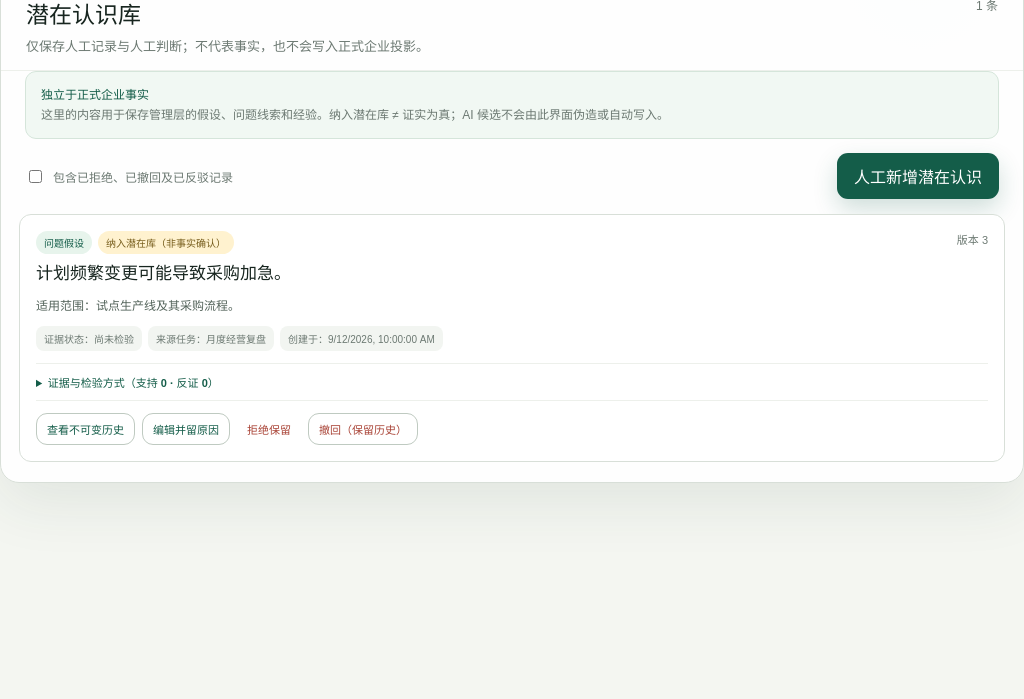
edits with a reason and expected version, then displays immutable versions and audit entries
Click the button "编辑并留原因": coordinates (186, 429) [142,413,230,445]
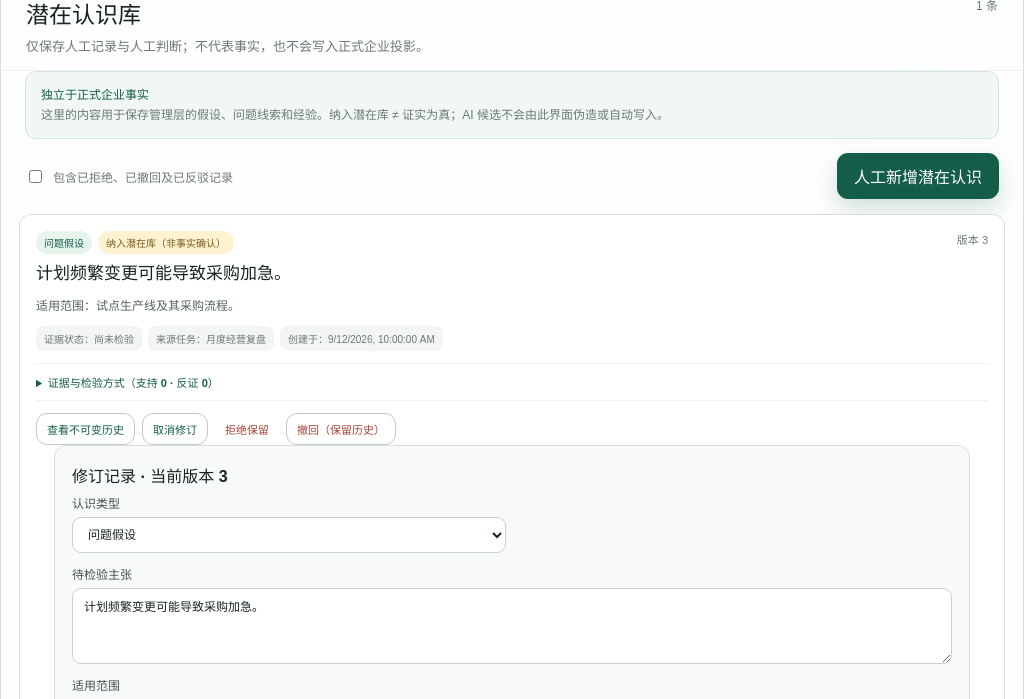
Replace the text in the text box labelled "待检验主张" with "计划变更可能与采购加急相关。": coordinates (512, 626) [72,588,952,664]
(page scrolled)
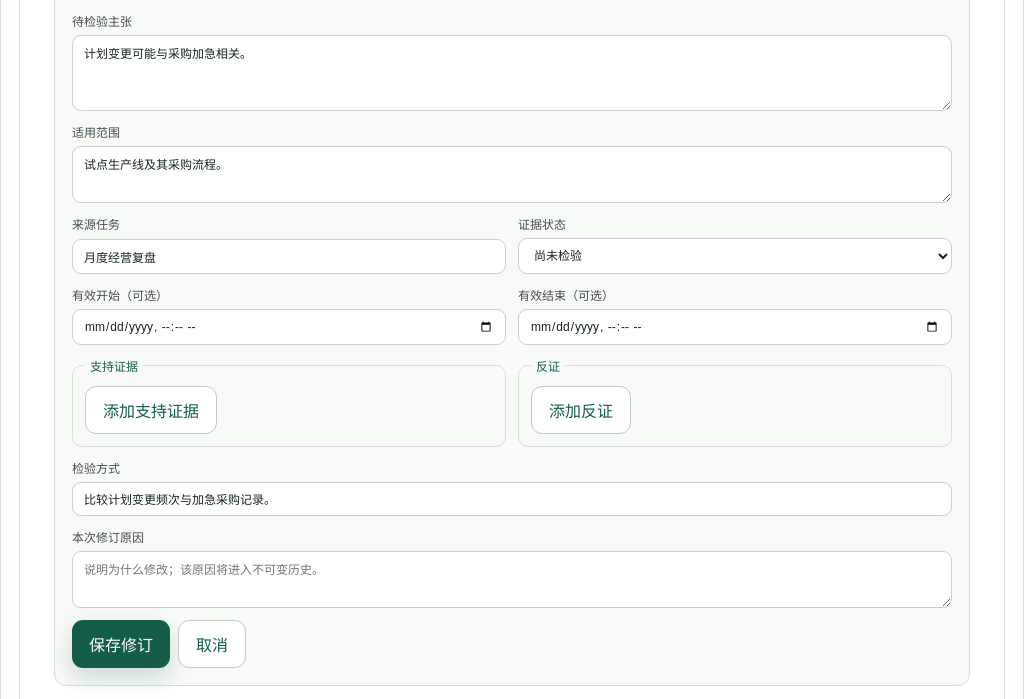
In the text box labelled "本次修订原因": coordinates (512, 580) [72,551,952,608], type "补充访谈后改为更谨慎的表述。"
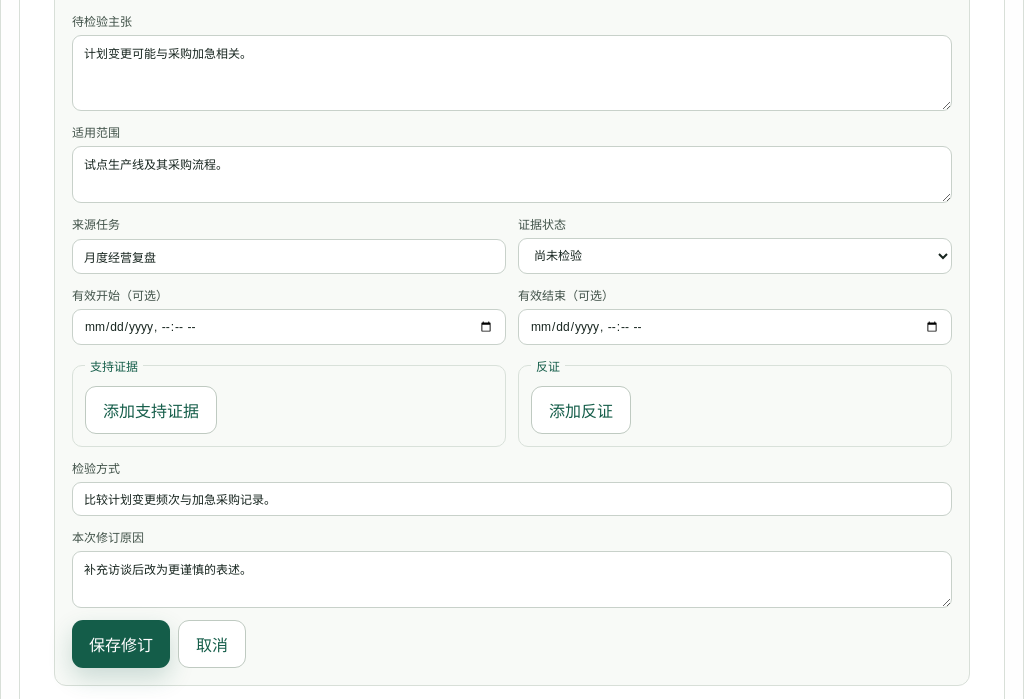
Click the button "保存修订": coordinates (121, 644) [72,620,170,668]
(page scrolled)
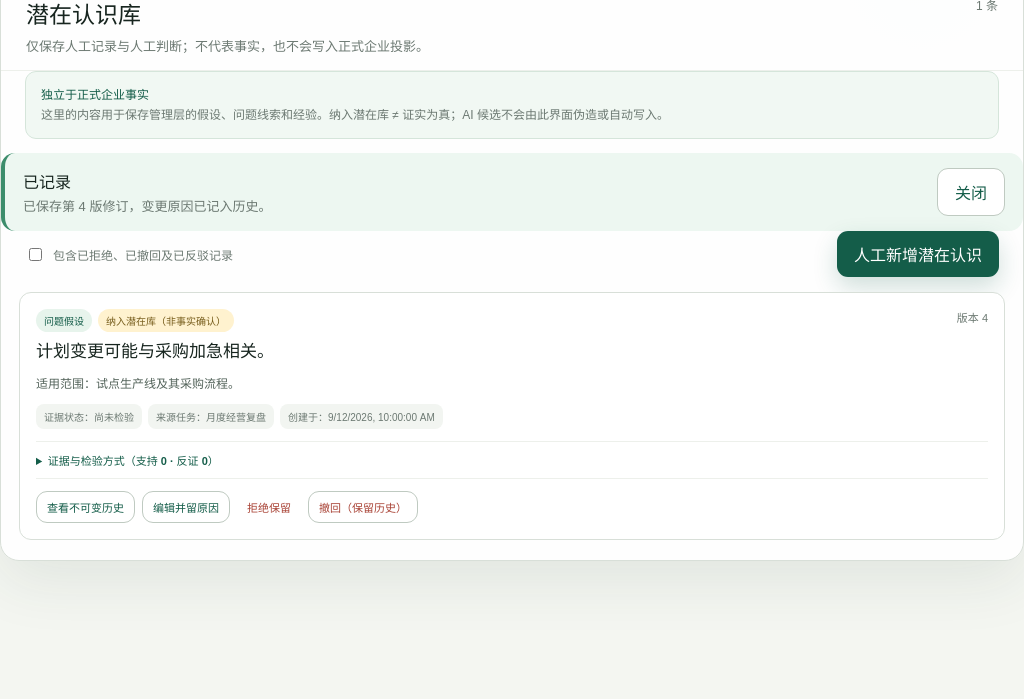
Result: the text "已保存第 4 版修订，变更原因已记入历史。" is shown at [23,196,272,215]
Click the button "查看不可变历史": coordinates (86, 507) [36,491,135,523]
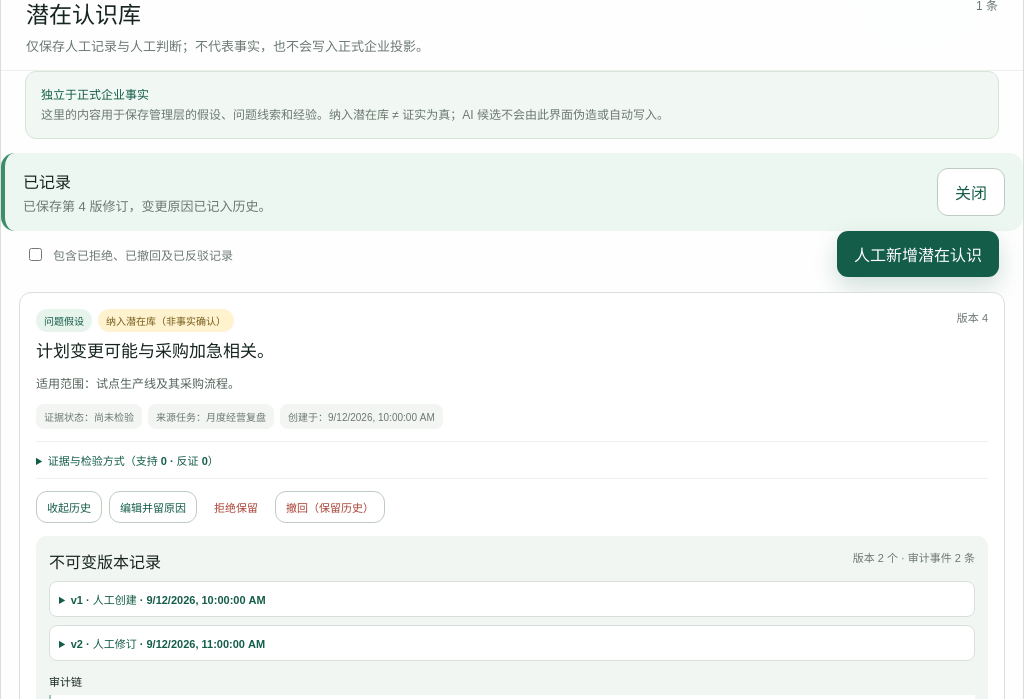
Result: the number of headings "v2 · 人工修订 · 9/12/2026, 11:00:00 AM" is 2
Result: the text "审计链" is shown at [49,676,82,688]
